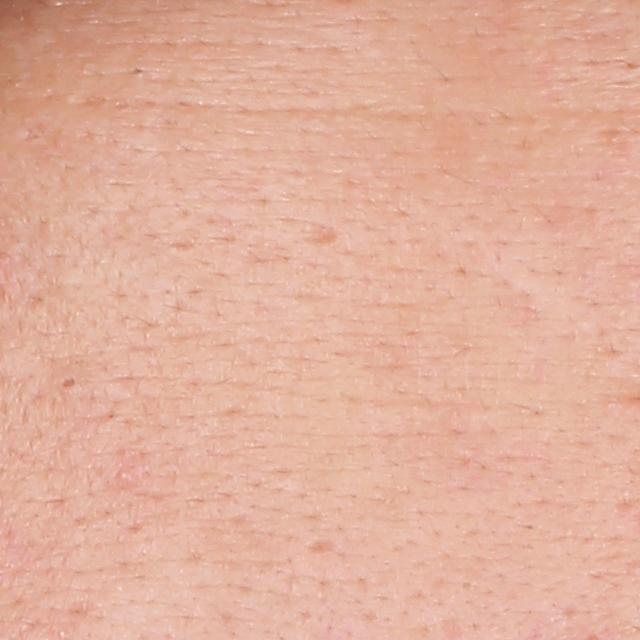atrophic_scar: (298, 217, 348, 255), (302, 533, 343, 558)
comedo: (56, 373, 81, 390), (116, 468, 130, 485)
